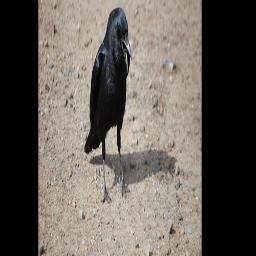Crow: (84, 7, 132, 204)
